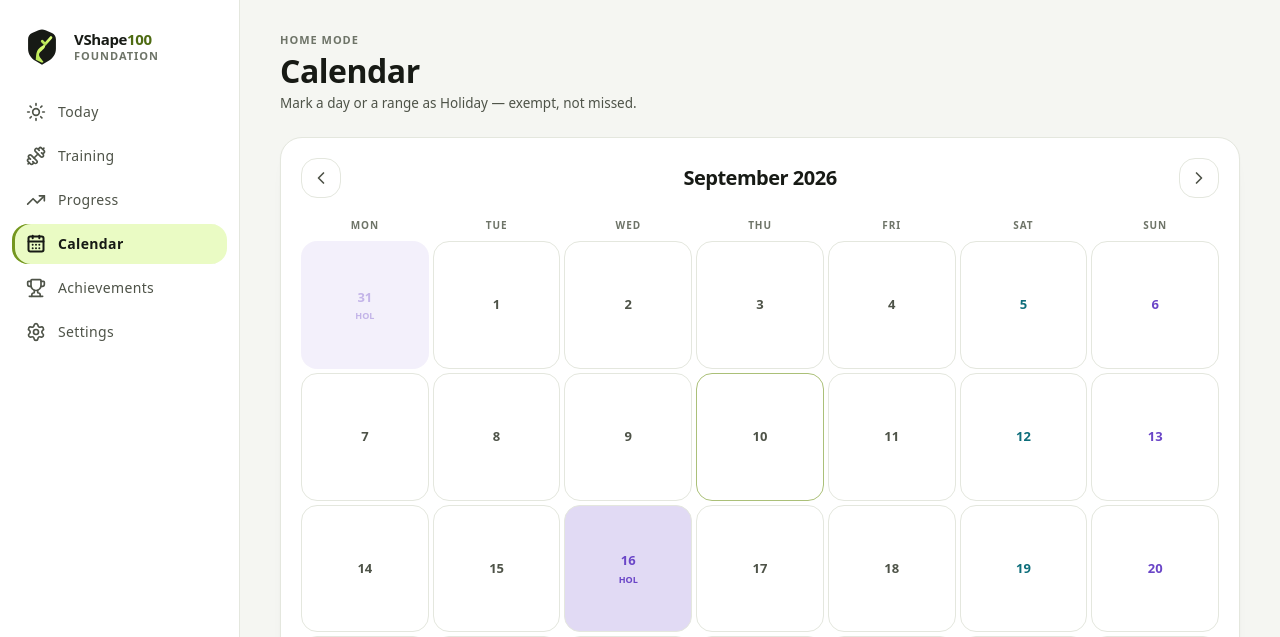
Scenario: 1. month view › crosses a year boundary
Expected: the heading "Calendar" is shown, [280,48,420,92]
Click the button named "Next month".
click(1199, 178)  # box [1179,158,1219,198]
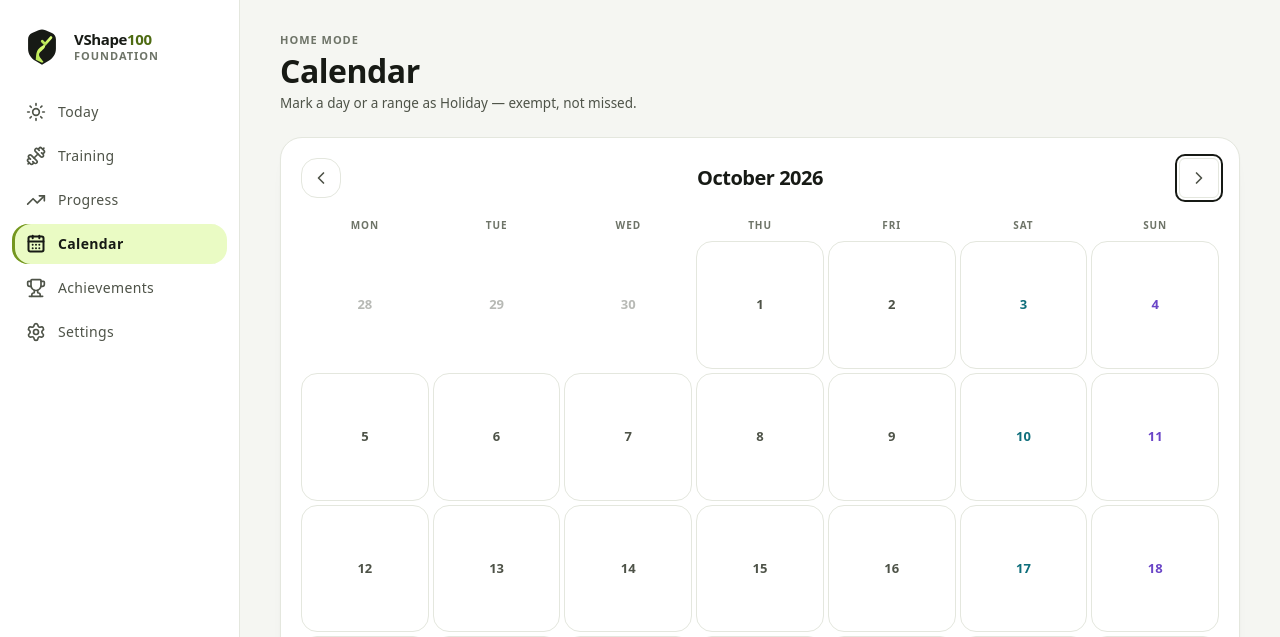
Click the button named "Next month".
click(1199, 178)  # box [1179,158,1219,198]
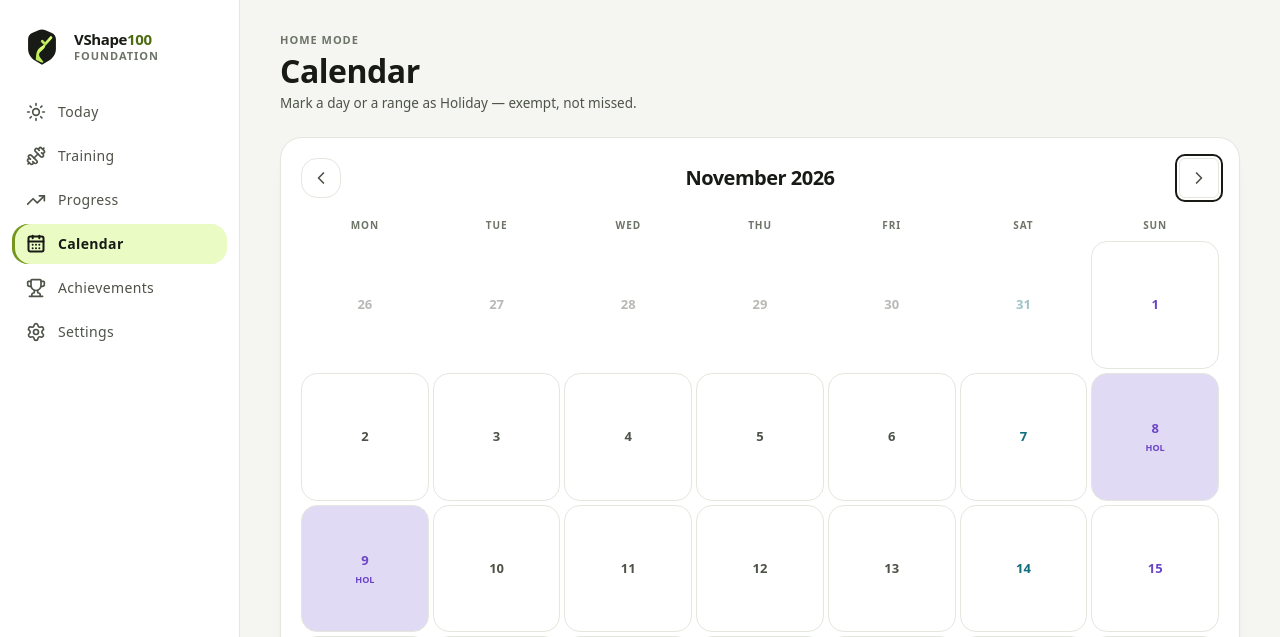
Click the button named "Next month".
click(1199, 178)  # box [1179,158,1219,198]
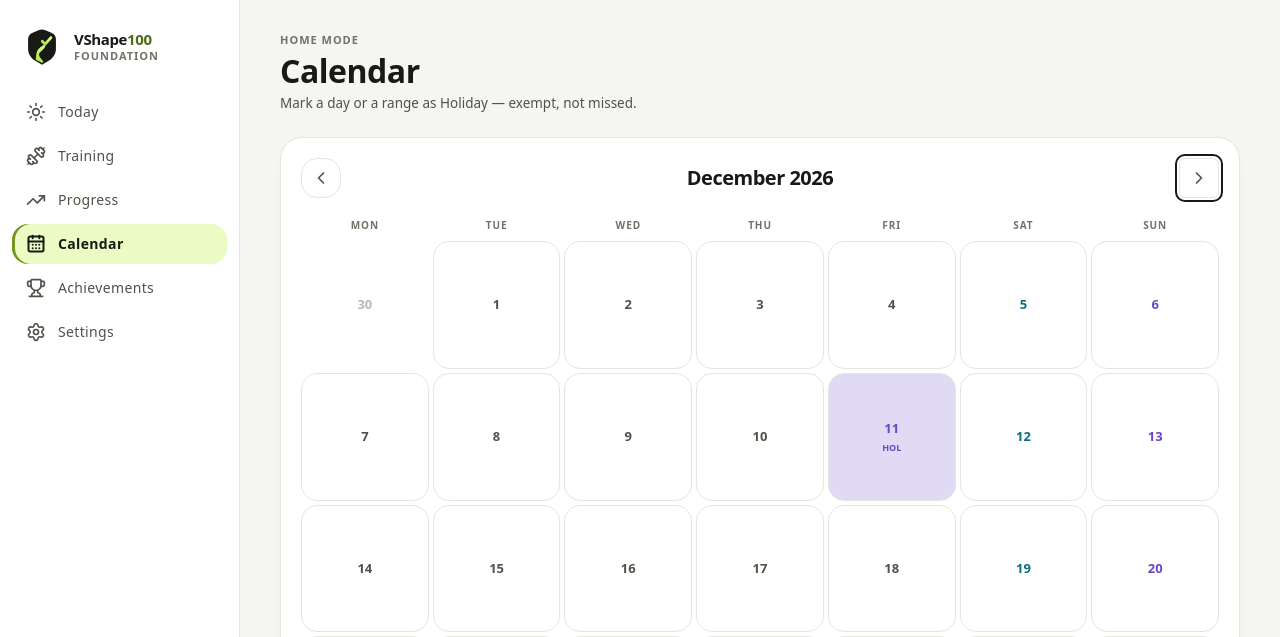
Click the button named "Next month".
click(1199, 178)  # box [1179,158,1219,198]
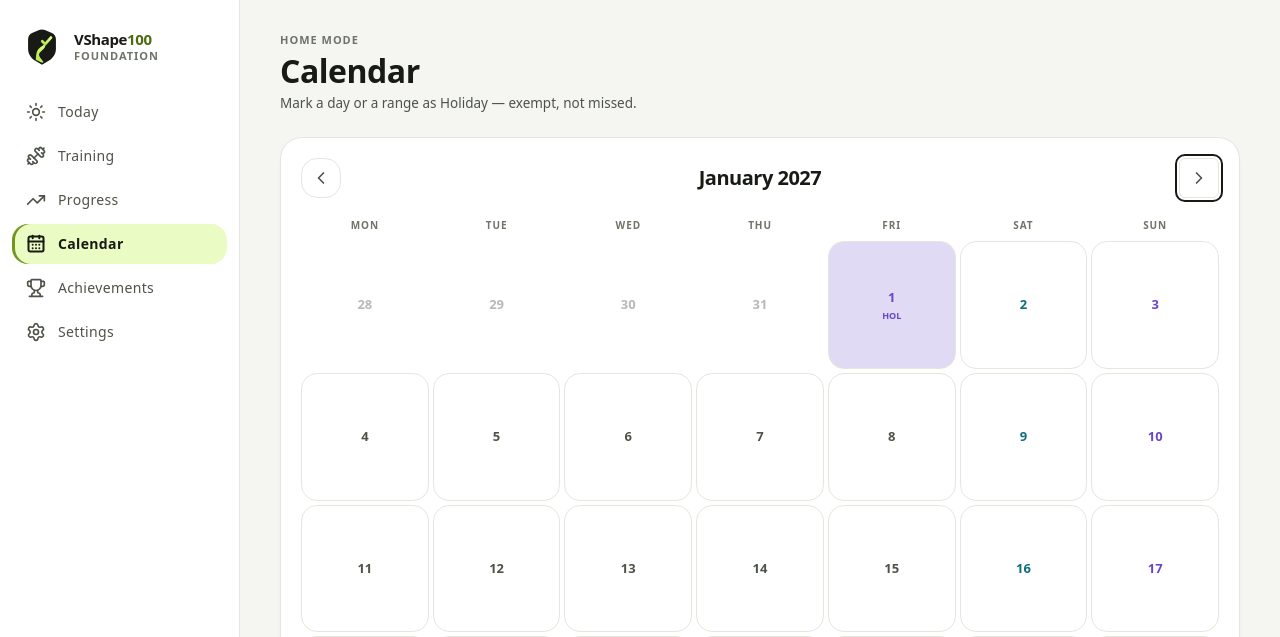
Expected: the heading "January 2027" is shown, [699,164,821,192]
